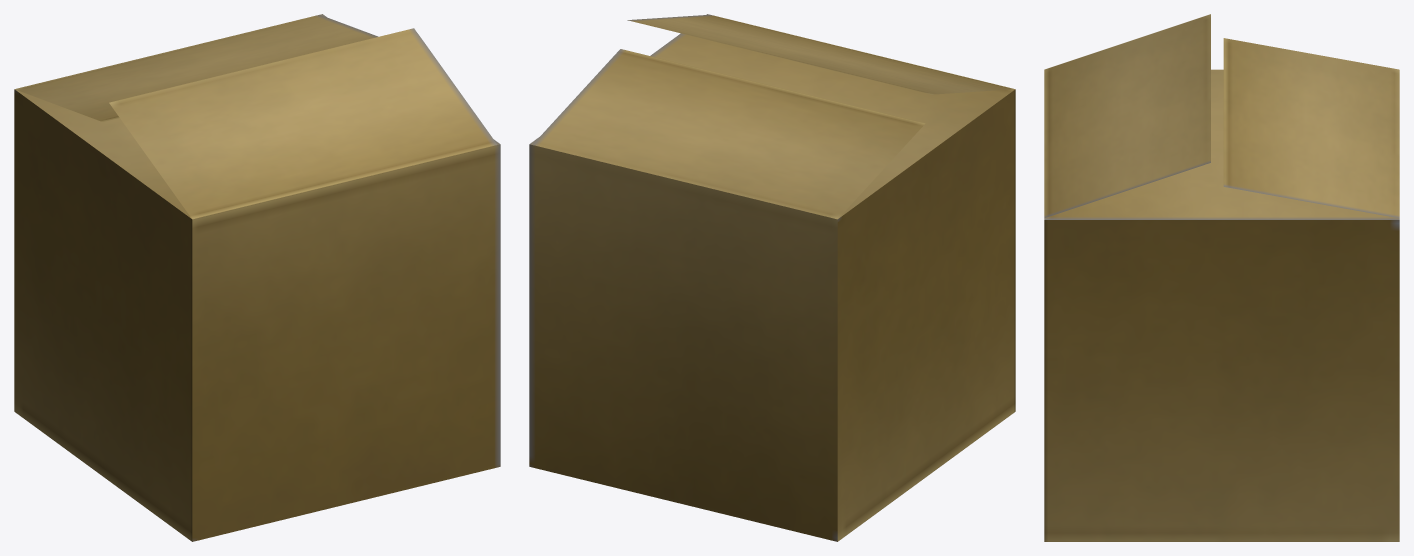
The model's file is Obstacle2.dae.
3 views of the same model, side by side, from view 1: azimuth 30°, elevation 25°; view 2: azimuth 150°, elevation 25°; view 3: azimuth 270°, elevation 25° (orthographic).
Parts seen in each view (by area): view 1: carton; view 2: carton; view 3: carton.
Boxes of the visible parts, bbox=[...] form: carton: bbox=[14, 14, 500, 541]; carton: bbox=[529, 14, 1015, 541]; carton: bbox=[1044, 14, 1399, 541].
Size of the model in its own units: 0.8169 by 0.8169 by 0.9579.
Materials: 1 (1 with a texture image).
